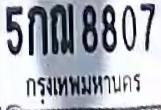0: (121, 4, 136, 51)
5: (5, 5, 22, 55)
7: (139, 3, 154, 50)
8: (81, 4, 97, 52), (101, 4, 116, 52)
A01: (27, 5, 47, 55)
A12: (49, 2, 74, 54)
BKK: (19, 67, 144, 104)
